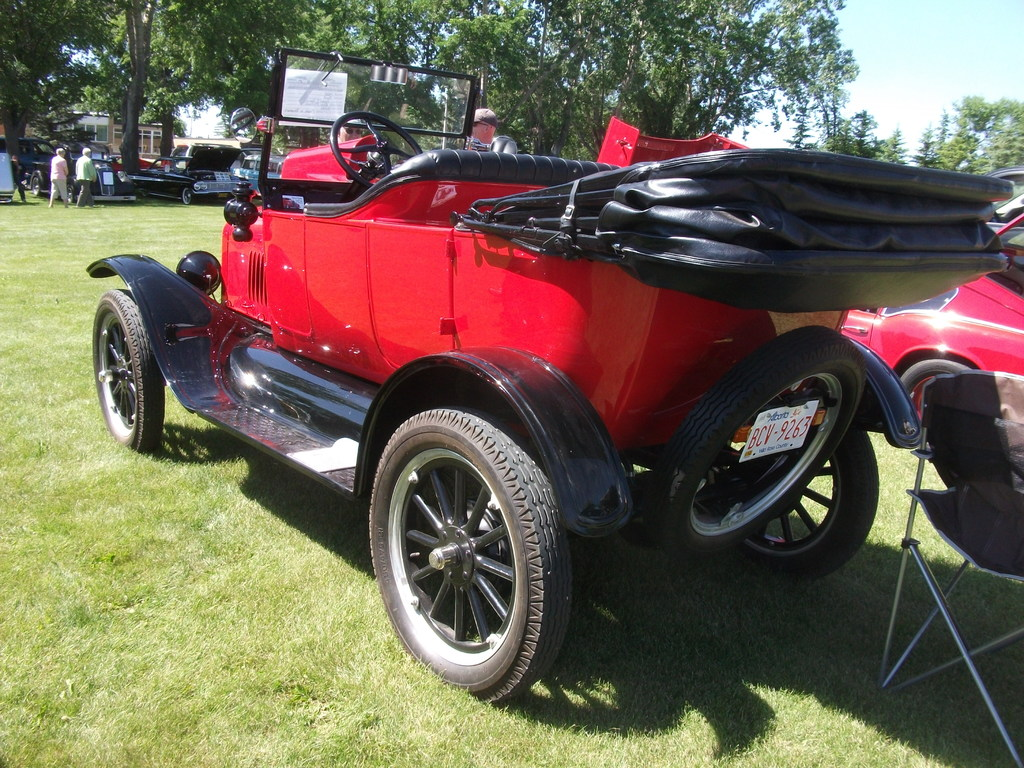Car: (80, 44, 1017, 714), (587, 118, 1023, 438), (124, 149, 211, 206), (53, 140, 129, 205), (220, 149, 284, 190), (13, 133, 51, 193)
